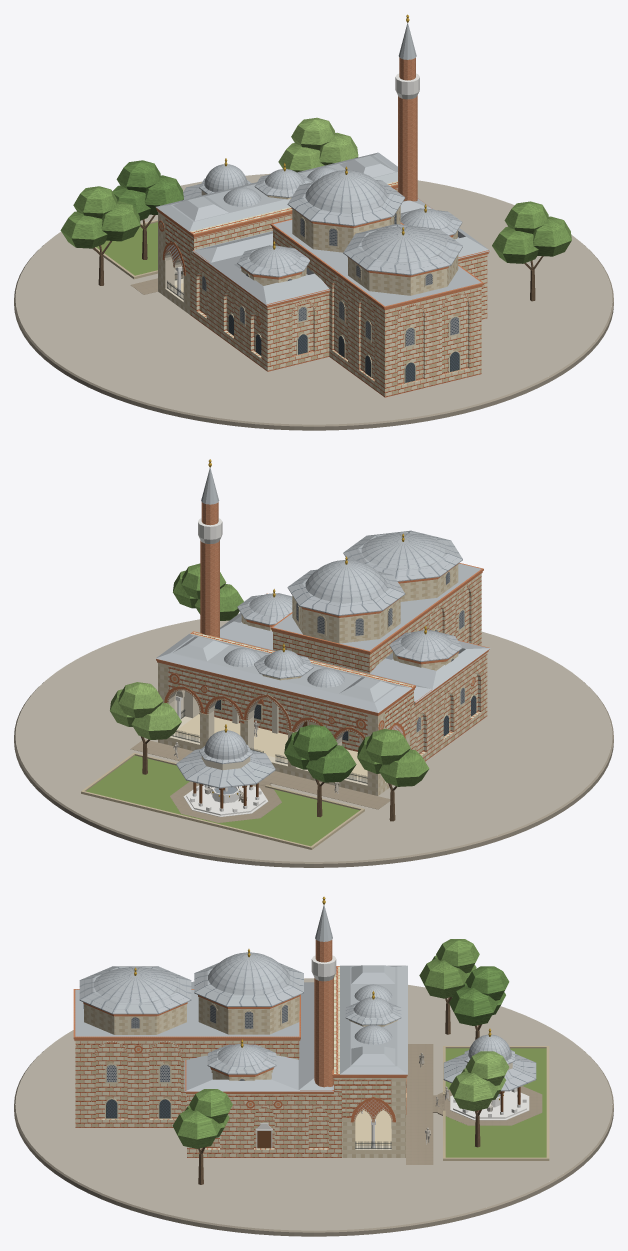
File: orhan-bey-camii_v10_sunum.glb
3 renders of one model, top to bottom at view 1: azimuth 30°, elevation 25°; view 2: azimuth 150°, elevation 25°; view 3: azimuth 270°, elevation 25°, orthographic.
Parts seen in each view (by area): view 1: Zemin_Kaide, Cami_Govde, Cami_Mihrap, Cami_SonCemaat, Kubbe_Mihrap, Kubbe_Ana, Cevre_Agac_01, Cevre_Agac_04, Minare, Kubbe_Tabhaneler, Cevre_Agac_02, Cevre_Agac_03 (+3 smaller); view 2: Zemin_Kaide, Cami_Govde, Cami_SonCemaat, Cevre_Doseme, Kubbe_Ana, Sadirvan, Kubbe_Mihrap, Kubbe_Tabhaneler, Cami_Mihrap, Minare, Cevre_Agac_03, Cevre_Agac_04 (+3 smaller); view 3: Zemin_Kaide, Cami_Govde, Cami_SonCemaat, Cevre_Doseme, Cami_Mihrap, Kubbe_Ana, Kubbe_Mihrap, Sadirvan, Minare, Cevre_Agac_02, Cevre_Agac_03, Cevre_Agac_01 (+3 smaller).
Boxes of the visible parts, bbox=[...] form: Zemin_Kaide: bbox=[14, 173, 613, 430]; Cami_Govde: bbox=[156, 163, 490, 383]; Cami_Mihrap: bbox=[323, 255, 481, 397]; Cami_SonCemaat: bbox=[156, 152, 397, 314]; Kubbe_Mihrap: bbox=[343, 224, 462, 295]; Kubbe_Ana: bbox=[287, 170, 405, 252]; Cevre_Agac_01: bbox=[492, 201, 571, 263]; Cevre_Agac_04: bbox=[60, 186, 140, 248]; Minare: bbox=[395, 14, 419, 201]; Kubbe_Tabhaneler: bbox=[237, 208, 462, 285]; Cevre_Agac_02: bbox=[278, 117, 358, 172]; Cevre_Agac_03: bbox=[112, 160, 183, 220]; Zemin_Kaide: bbox=[14, 613, 613, 867]; Cami_Govde: bbox=[156, 533, 490, 779]; Cami_SonCemaat: bbox=[156, 633, 412, 795]; Cevre_Doseme: bbox=[81, 739, 390, 849]; Kubbe_Ana: bbox=[287, 560, 405, 643]; Sadirvan: bbox=[176, 724, 275, 816]; Kubbe_Mihrap: bbox=[343, 530, 462, 601]; Kubbe_Tabhaneler: bbox=[237, 593, 462, 670]; Cami_Mihrap: bbox=[400, 563, 481, 645]; Minare: bbox=[198, 459, 222, 637]; Cevre_Agac_03: bbox=[284, 724, 356, 782]; Cevre_Agac_04: bbox=[357, 729, 429, 786]; Zemin_Kaide: bbox=[14, 978, 613, 1236]; Cami_Govde: bbox=[73, 949, 407, 1157]; Cami_SonCemaat: bbox=[340, 965, 407, 1157]; Cevre_Doseme: bbox=[406, 1044, 549, 1164]; Cami_Mihrap: bbox=[75, 989, 198, 1127]; Kubbe_Ana: bbox=[194, 952, 303, 1034]; Kubbe_Mihrap: bbox=[79, 966, 191, 1034]; Sadirvan: bbox=[443, 1028, 536, 1120]; Minare: bbox=[311, 896, 336, 1087]; Cevre_Agac_02: bbox=[449, 1051, 509, 1111]; Cevre_Agac_03: bbox=[449, 966, 509, 1025]; Cevre_Agac_01: bbox=[172, 1089, 232, 1148].
Bounding box in the file's own units: 60.76 × 29.25 × 60.76.
Materials: 29 (17 with a texture image).
